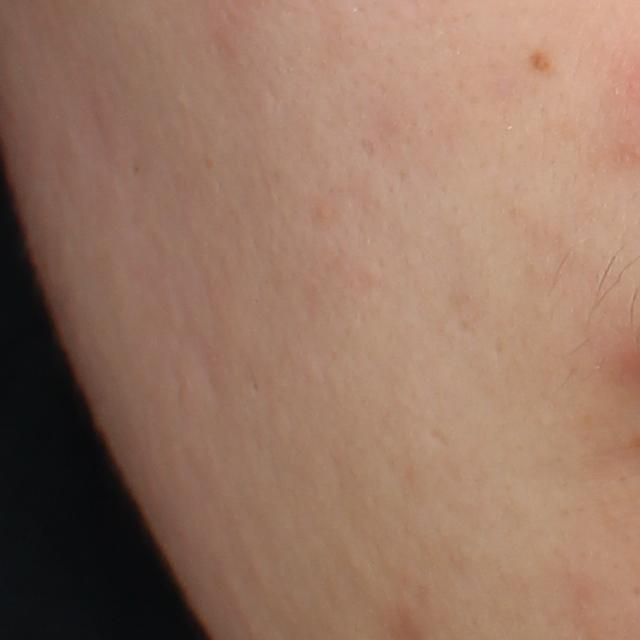nevus: (530, 49, 551, 72)
